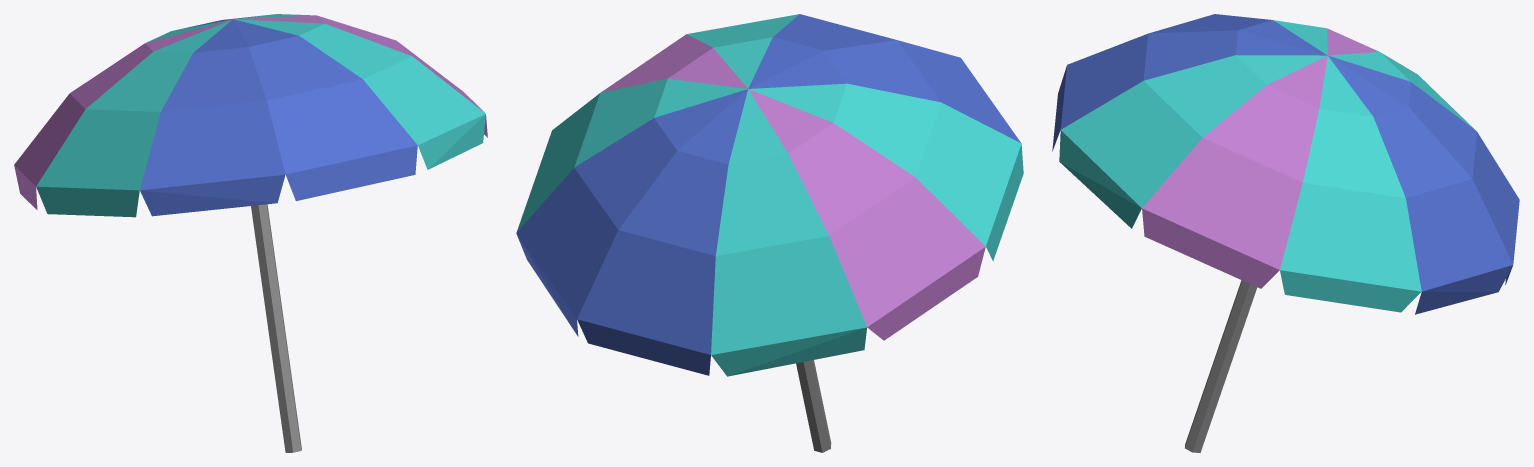
3 renders of one model, left to right at view 1: azimuth 30°, elevation 25°; view 2: azimuth 150°, elevation 25°; view 3: azimuth 270°, elevation 25°, orthographic. The views are drawn at different scales.
Visible parts, largest first — view 1: UMBRELLA1.002; view 2: UMBRELLA1.002; view 3: UMBRELLA1.002.
Boxes of the visible parts, x1,y1,x2,y2 form: UMBRELLA1.002: (14, 14, 487, 452); UMBRELLA1.002: (516, 14, 1023, 452); UMBRELLA1.002: (1052, 14, 1519, 452).
Size of the model in its own units: 275 by 249 by 258.
